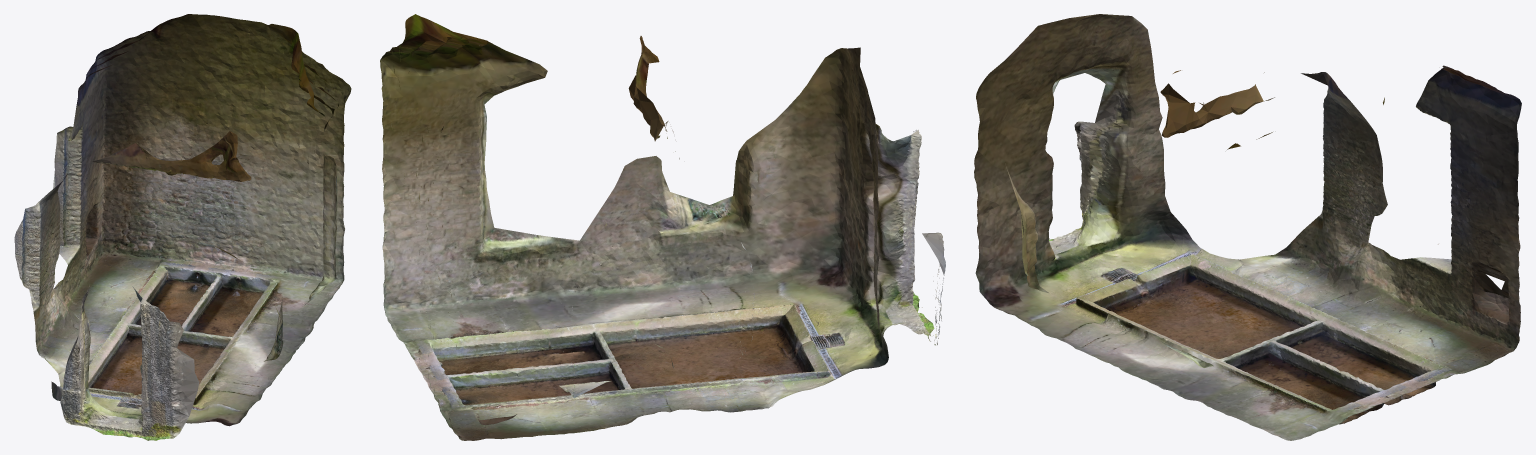
The picture shows the model from 3 angles, left to right: view 1: azimuth 30°, elevation 25°; view 2: azimuth 150°, elevation 25°; view 3: azimuth 270°, elevation 25°; orthographic projection. The views are drawn at different scales.
Size of the model in its own units: 2.54 by 1.78 by 2.63.
Materials: 1 (1 with a texture image).
